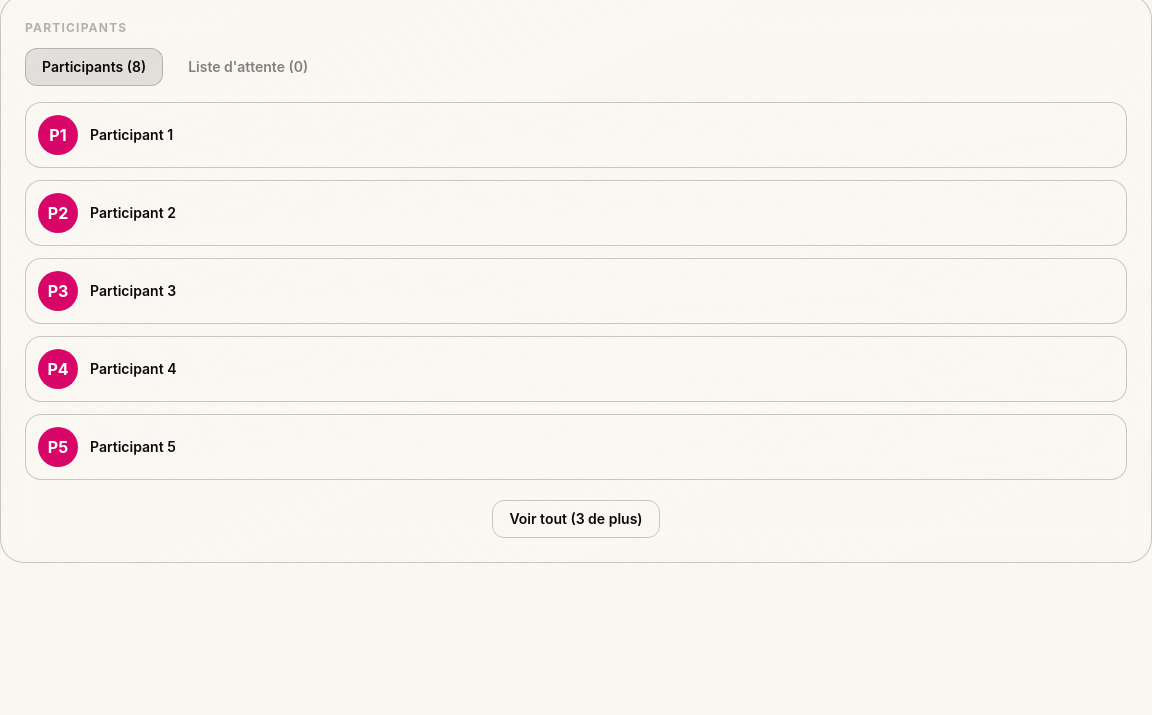
AttendeesList › authenticated view › hides "Charger plus" while collapsed even when hasMore is true
This screenshot has width=1152, height=715.
Expected: the button "Charger plus" is not shown
// After expanding, « Charger plus » re-appears next to « Réduire ».
Click the button "Voir tout (3 de plus)" at [576, 519], box x1=492 y1=500 x2=660 y2=538
(page scrolled)
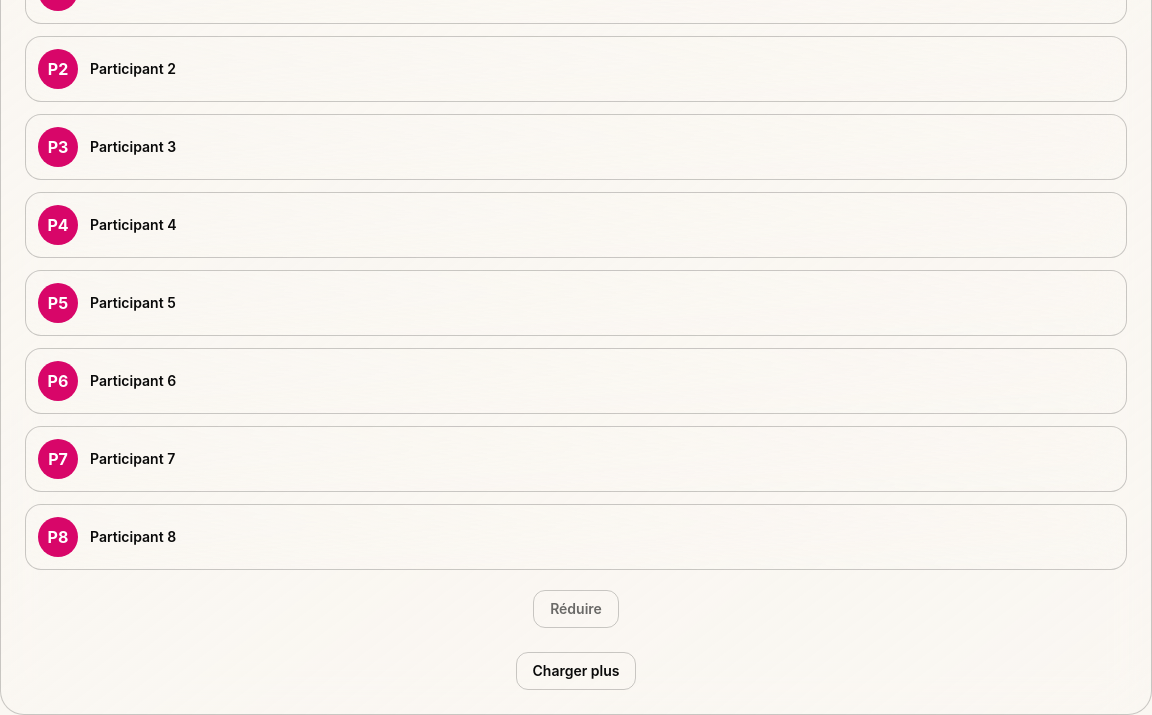
Now the button "Charger plus" is shown, box x1=516 y1=652 x2=636 y2=690
Now the button "Réduire" is shown, box x1=533 y1=590 x2=619 y2=628
